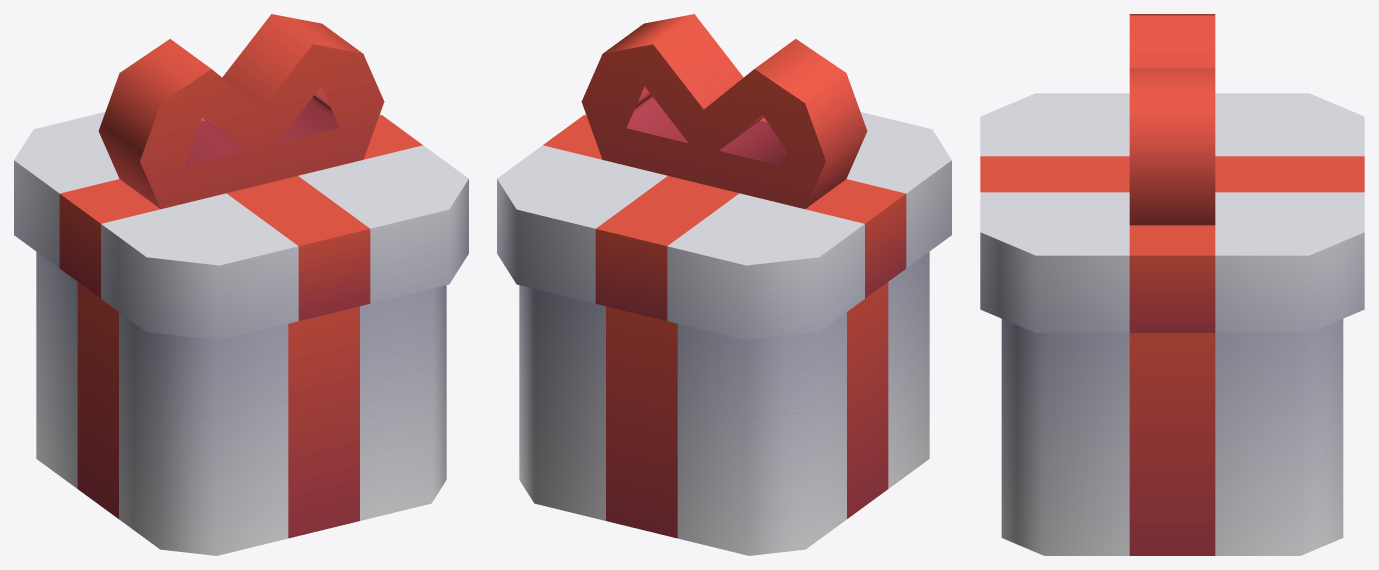
The model's file is cc0-present-lod1.glb.
The picture shows the model from 3 angles, left to right: view 1: azimuth 30°, elevation 25°; view 2: azimuth 150°, elevation 25°; view 3: azimuth 270°, elevation 25°; orthographic projection. The views are drawn at different scales.
Parts seen in each view (by area): view 1: part_0; view 2: part_0; view 3: part_0.
Part boxes in pixels (bbox=[...]): part_0: bbox=[14, 14, 468, 555]; part_0: bbox=[497, 14, 951, 555]; part_0: bbox=[980, 14, 1364, 555].
Size of the model in its own units: 0.45 by 0.5707 by 0.45.
1 material, 1 textured.
